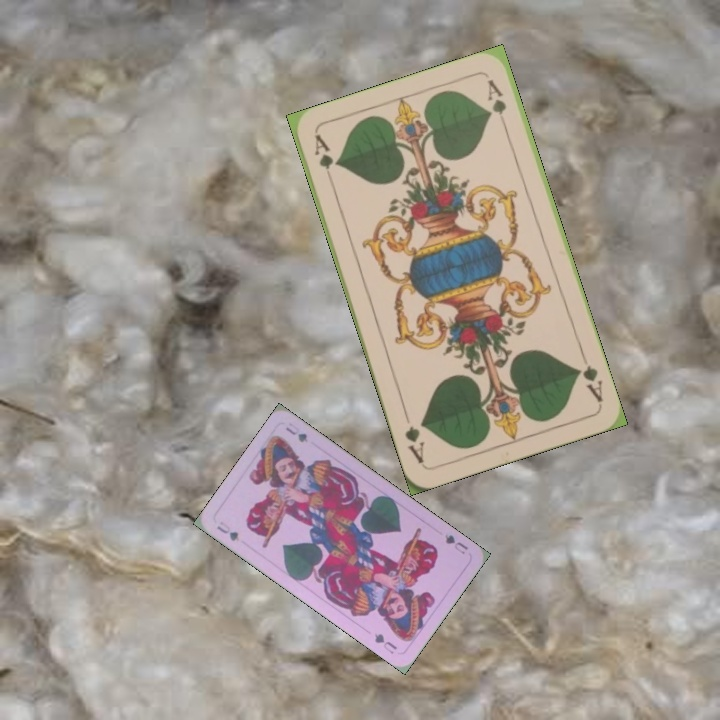GA: (572, 349, 606, 405), (310, 130, 338, 189)
GU: (441, 530, 471, 557), (213, 517, 242, 544)
